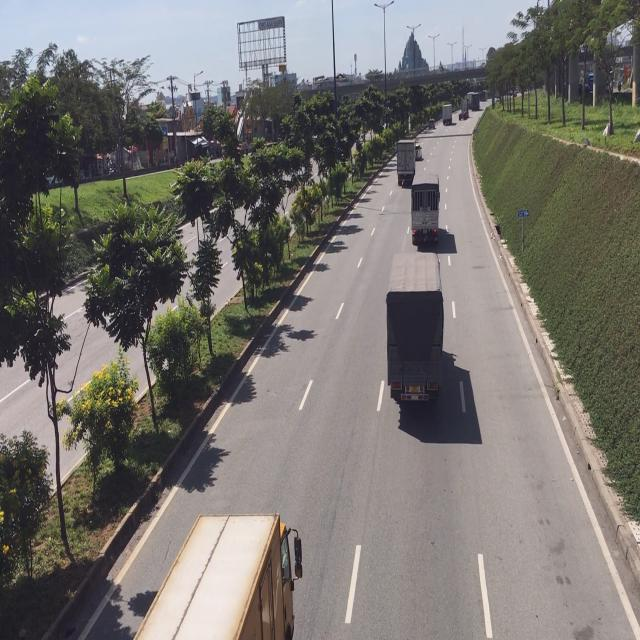truck: (135, 510, 302, 640), (383, 253, 446, 410), (410, 173, 440, 247), (396, 138, 416, 188)
